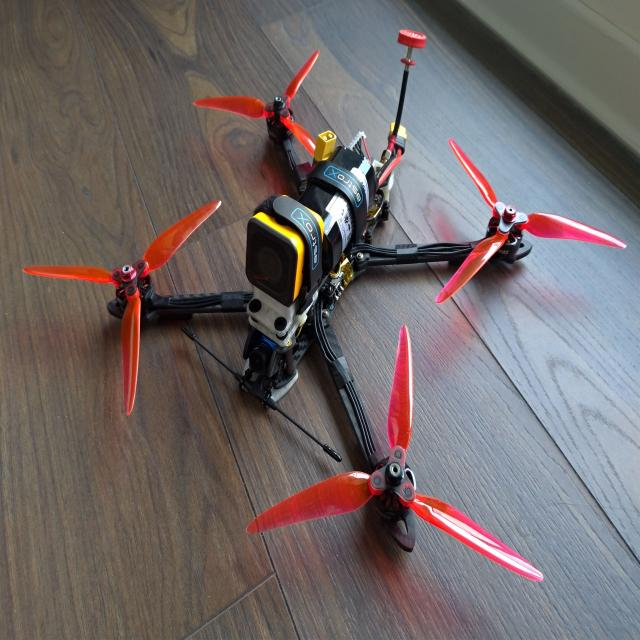drone: (53, 70, 600, 595)
